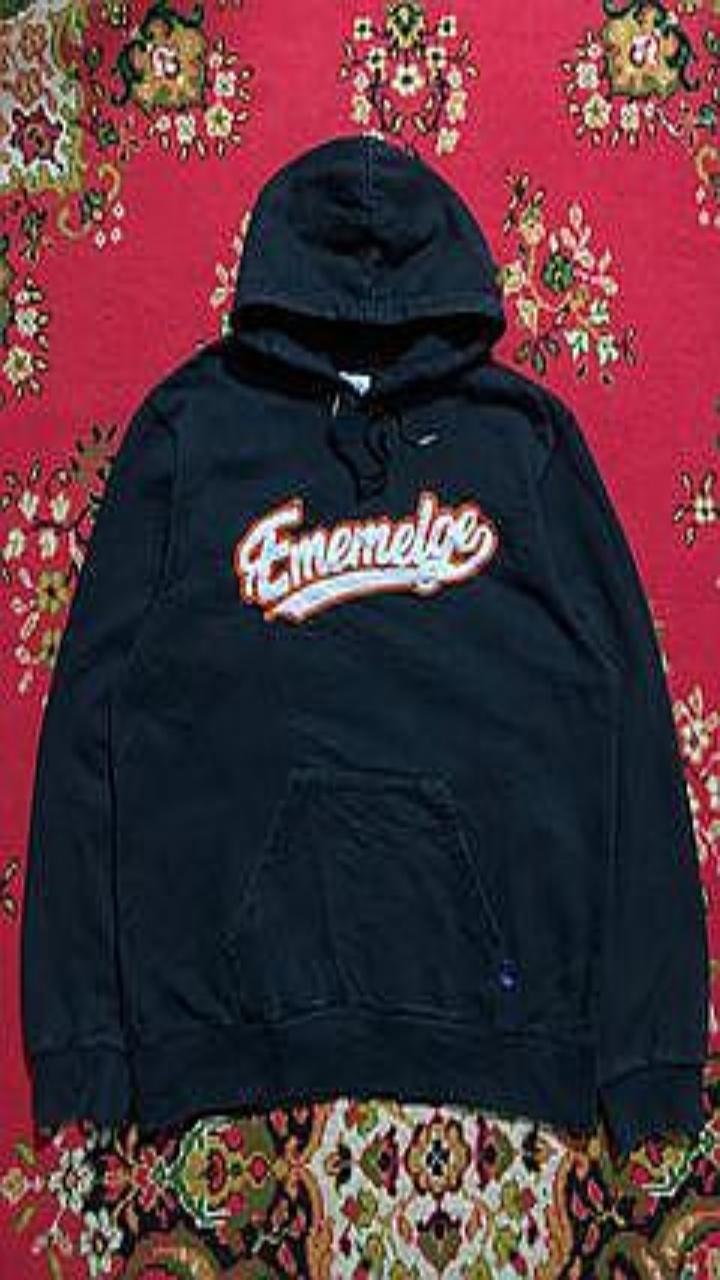Hoodie: (22, 134, 708, 1152)
